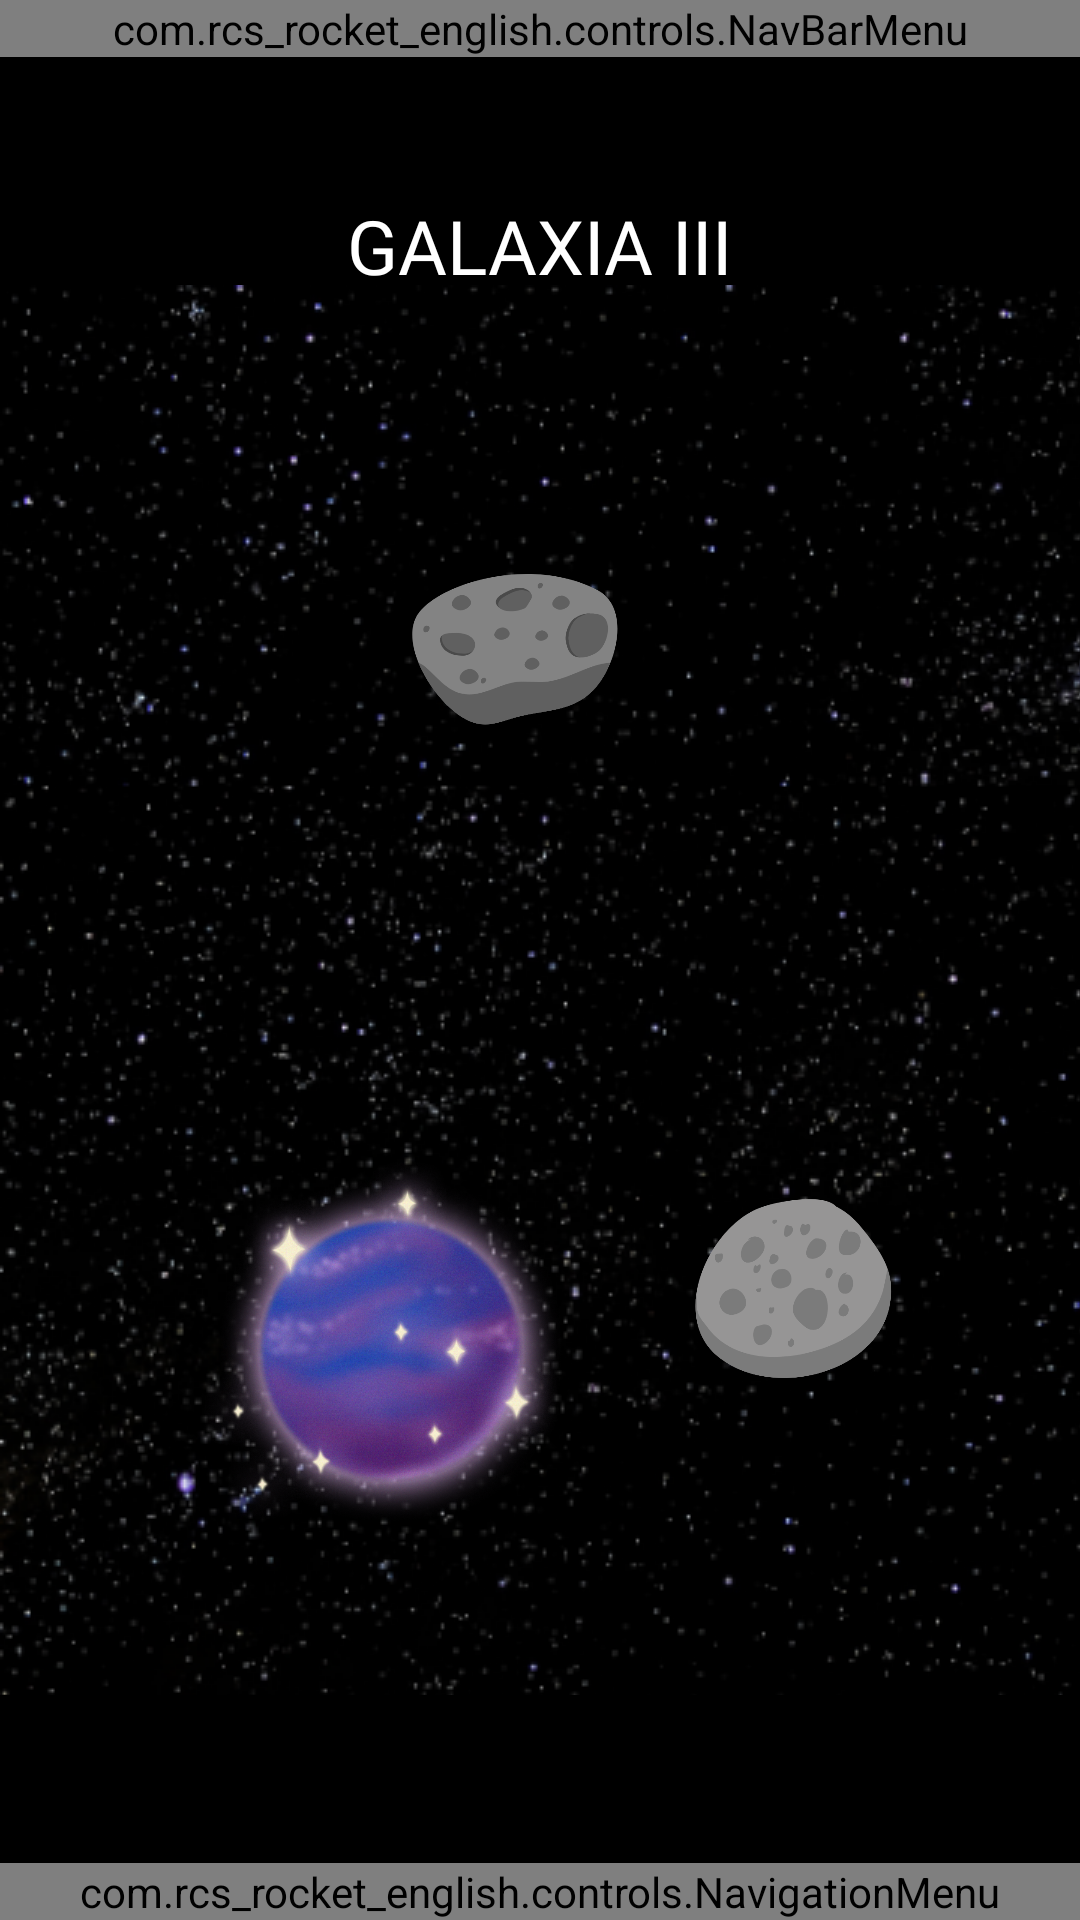

Locate icon controls on the screen. Image size 1080px×1920px, boxes as (x1, y1, x2, y2).
ateroid nine: (669, 1186, 900, 1416)
ateroid two: (408, 525, 629, 756)
planet special five: (204, 1161, 564, 1521)
